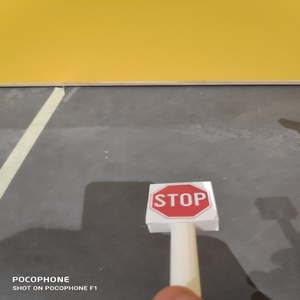stop-bord: (149, 182, 213, 218)
